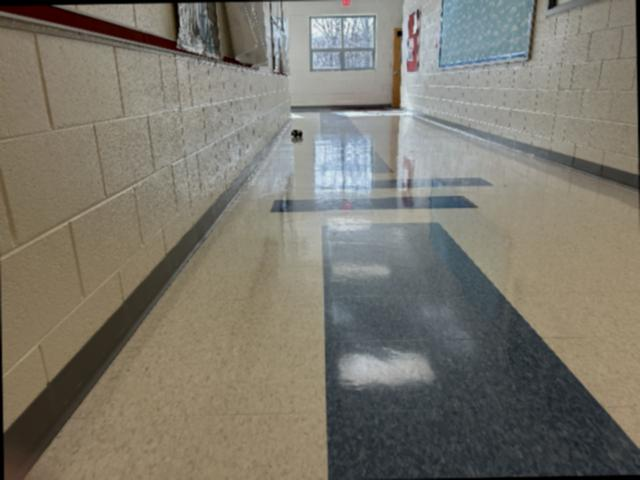panda_plushie: (291, 130, 303, 137)
